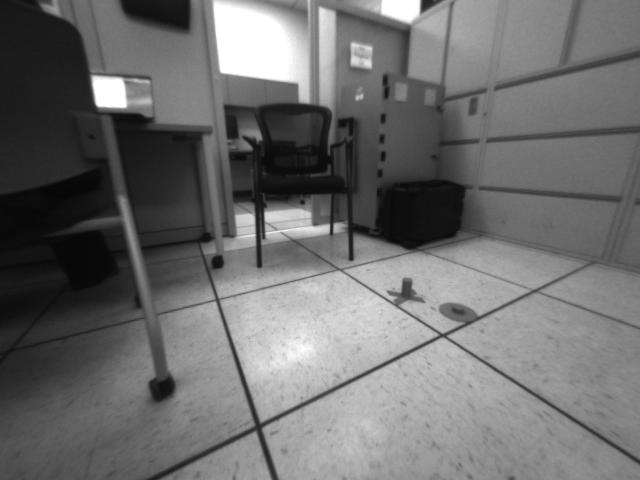X: (386, 276, 427, 306)
